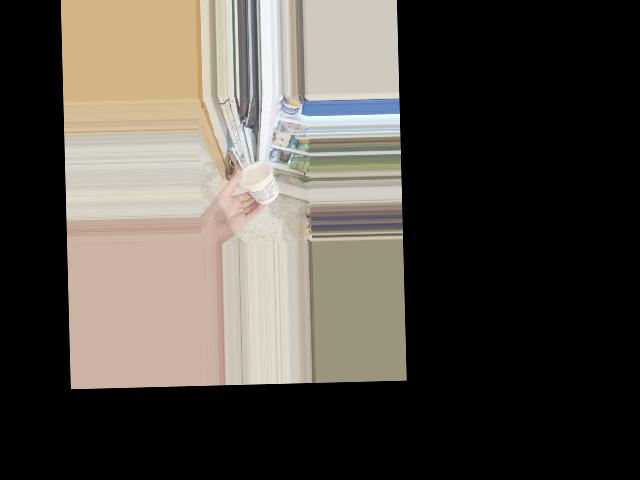cotage: (243, 160, 277, 203)
